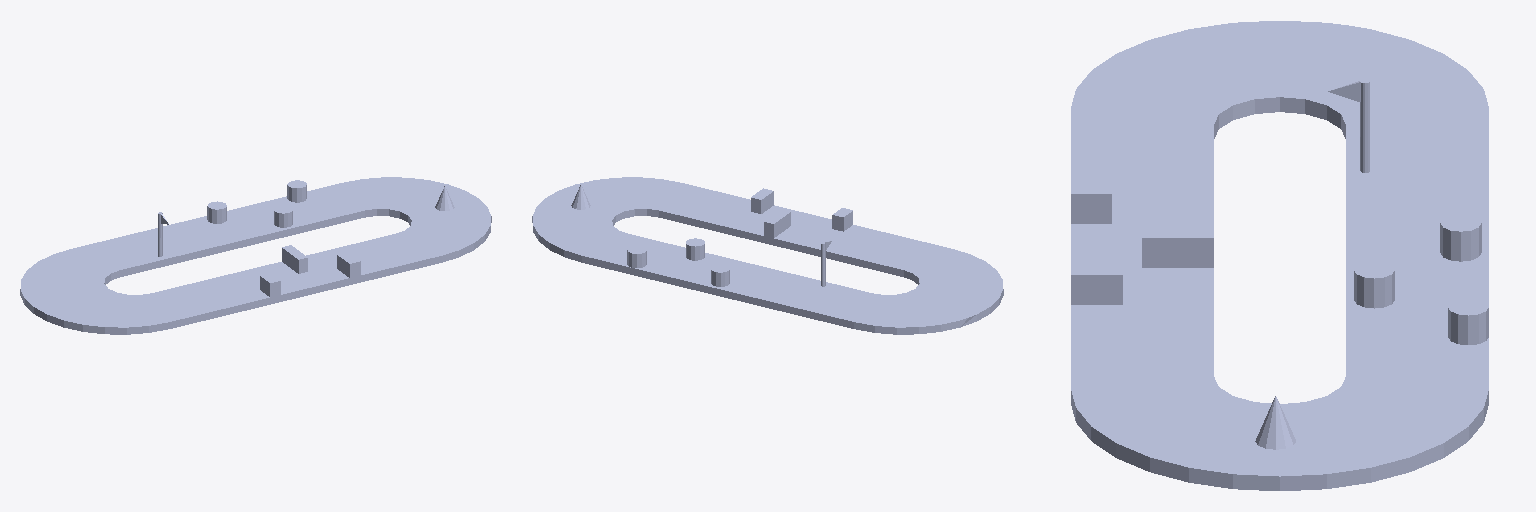
robot.urdf — track3:
<?xml version="1.0" encoding="utf-8"?>
<!-- This URDF was automatically created by SolidWorks to URDF Exporter! Originally created by [author] ([email redacted]) 
     Commit Version: 1.6.0-4-g7f85cfe  Build Version: 1.6.7995.38578
     For more information, please see http://wiki.ros.org/sw_urdf_exporter -->
<robot
  name="track3">
  <link
    name="base_link">
    <inertial>
      <origin
        xyz="5.65276978842518 -2.5821150181252 -0.208493949958198"
        rpy="0 0 0" />
      <mass
        value="155904.571726482" />
      <inertia
        ixx="2461365.61937811"
        ixy="-37133.7291671346"
        ixz="-14794.5476401383"
        iyy="13197686.3532147"
        iyz="-766.066101087171"
        izz="15641095.383409" />
    </inertial>
    <visual>
      <origin
        xyz="0 0 0"
        rpy="0 0 0" />
      <geometry>
        <mesh
          filename="package://track3/meshes/base_link.STL" />
      </geometry>
      <material
        name="">
        <color
          rgba="0.792156862745098 0.819607843137255 0.933333333333333 1" />
      </material>
    </visual>
    <collision>
      <origin
        xyz="0 0 0"
        rpy="0 0 0" />
      <geometry>
        <mesh
          filename="package://track3/meshes/base_link.STL" />
      </geometry>
    </collision>
  </link>
</robot>

--- Facts derived from the render (not from the file) ---
Views: 3 orthographic renders of the robot side by side, from view 1: azimuth 30°, elevation 25°; view 2: azimuth 150°, elevation 25°; view 3: azimuth 270°, elevation 25°.
Robot: track3 — 1 links, 0 joints (none); root link base_link; default pose: all joints at 0.
Links seen in each view (by area): view 1: base_link; view 2: base_link; view 3: base_link.
Boxes of the visible links, <box> form: base_link: <box>20,177,491,334</box>; base_link: <box>532,177,1003,334</box>; base_link: <box>1071,21,1488,490</box>.
Bounding box of the posed robot: 32.67 × 12.67 × 3.5 m (x, y, z).
1 mesh visuals loaded from 1 distinct referenced files (1 binary STL).